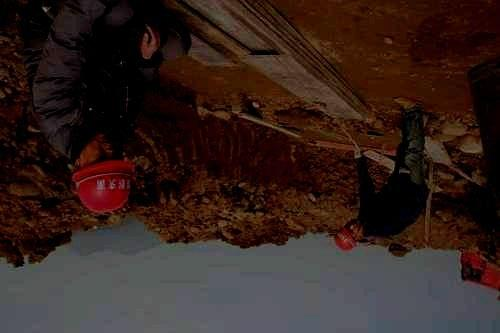helmet: (71, 135, 137, 214), (334, 219, 365, 252)
